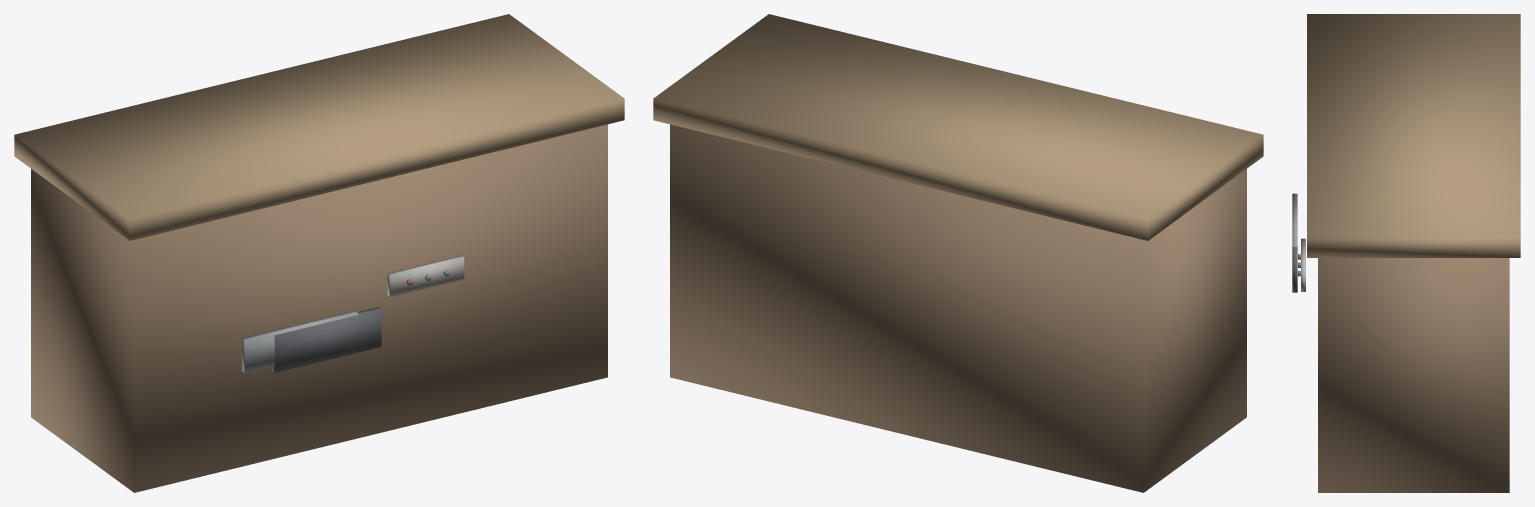
The model's file is hotel_reception_counter__weathered.glb.
3 renders of one model, left to right at view 1: azimuth 30°, elevation 25°; view 2: azimuth 150°, elevation 25°; view 3: azimuth 270°, elevation 25°, orthographic. The views are drawn at different scales.
Visible parts, largest first — view 1: world; view 2: world; view 3: world.
Part boxes in pixels (left/top/right/bottom): world: left=14, top=14, right=624, bottom=492; world: left=653, top=14, right=1263, bottom=492; world: left=1292, top=14, right=1520, bottom=492.
Bounding box in the file's own units: 1.88 × 1.02 × 0.812.
